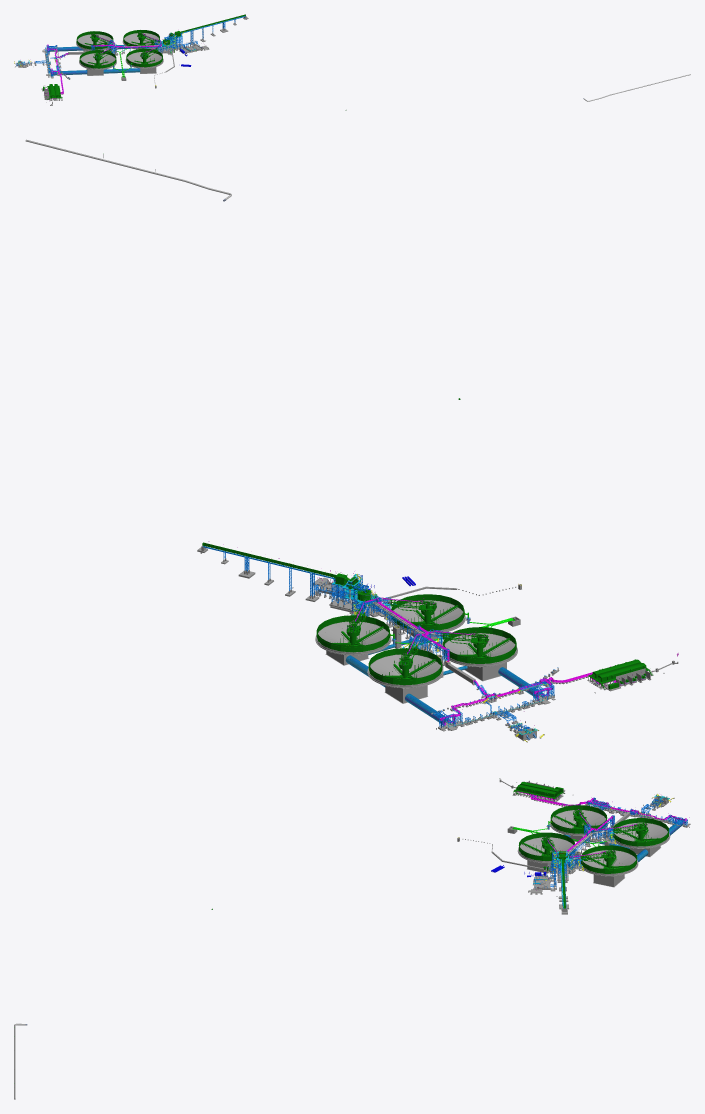
The model's file is area1411_movil.glb.
The picture shows the model from 3 angles, top to bottom: view 1: azimuth 30°, elevation 25°; view 2: azimuth 150°, elevation 25°; view 3: azimuth 270°, elevation 25°; orthographic projection. The views are drawn at different scales.
Visible parts, largest first — view 1: C_A3A3A3_13, C_008000_1, C_0080FF_3, C_0080C0_A50_2, C_FF00FF_18, C_BFBFBF_15; view 2: C_A3A3A3_13, C_008000_1, C_0080FF_3, C_FF00FF_18, C_0080C0_A50_2; view 3: C_A3A3A3_13, C_008000_1, C_0080FF_3, C_FF00FF_18.
Part boxes in pixels (x1=…): C_A3A3A3_13: x1=14, y1=16, x2=248, y2=105; C_008000_1: x1=43, y1=14, x2=346, y2=110; C_0080FF_3: x1=18, y1=16, x2=245, y2=91; C_0080C0_A50_2: x1=48, y1=45, x2=140, y2=75; C_FF00FF_18: x1=45, y1=32, x2=161, y2=99; C_BFBFBF_15: x1=108, y1=41, x2=690, y2=101; C_A3A3A3_13: x1=197, y1=545, x2=678, y2=742; C_008000_1: x1=202, y1=398, x2=652, y2=689; C_0080FF_3: x1=203, y1=546, x2=643, y2=735; C_FF00FF_18: x1=349, y1=597, x2=647, y2=725; C_0080C0_A50_2: x1=345, y1=604, x2=544, y2=725; C_A3A3A3_13: x1=457, y1=778, x2=690, y2=914; C_008000_1: x1=211, y1=781, x2=669, y2=909; C_0080FF_3: x1=530, y1=795, x2=687, y2=908; C_FF00FF_18: x1=517, y1=791, x2=686, y2=868.
Bounding box in the file's own units: 835 × 58.79 × 657.
